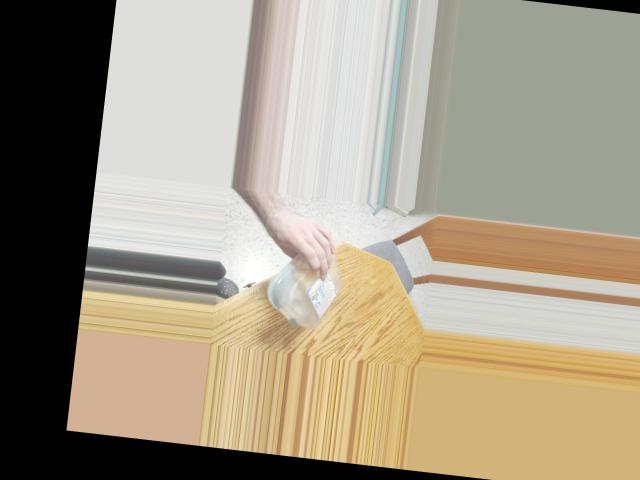cheese: (265, 233, 350, 334)
